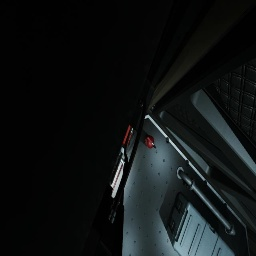EmergencyPhone ,: (122, 140, 130, 150)
FireAlarm ,: (122, 125, 134, 147)
FireExtinguisher ]: (144, 135, 156, 149)
